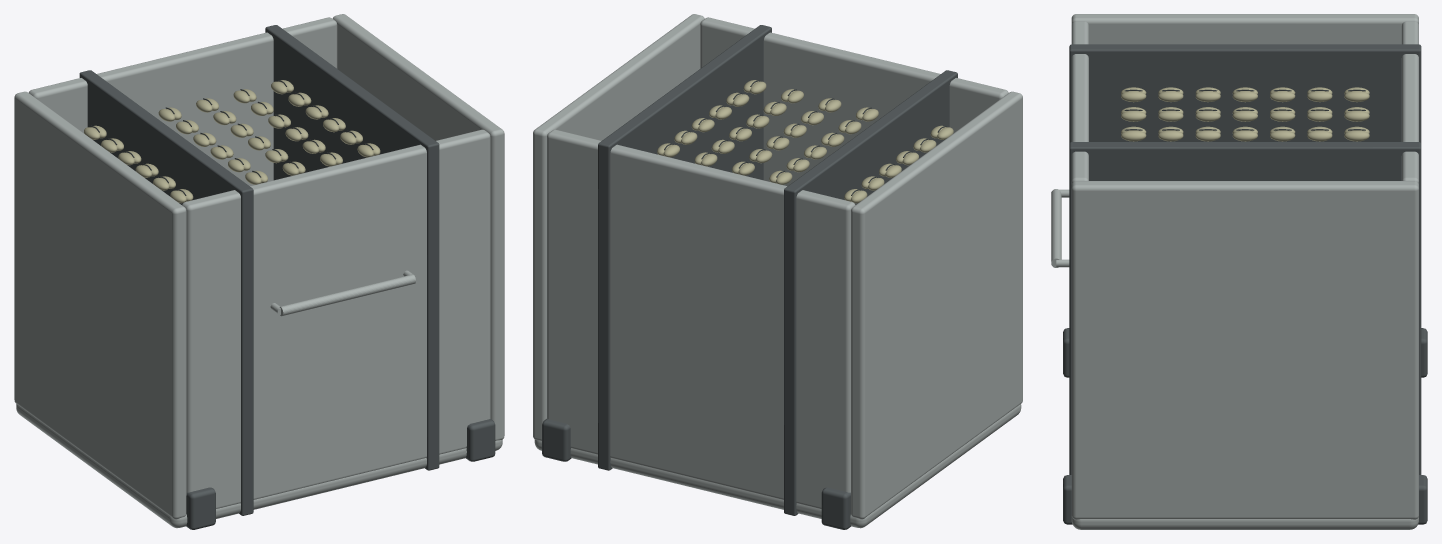
The model's file is coffee-roastery-and-cupping-room-coffee-roastery-and-c-9d63b5f4__32180.glb.
The picture shows the model from 3 angles, left to right: view 1: azimuth 30°, elevation 25°; view 2: azimuth 150°, elevation 25°; view 3: azimuth 270°, elevation 25°; orthographic projection. The views are drawn at different scales.
Parts seen in each view (by area): view 1: coffee-roastery-and-cupping-room-green-coffee-storage-bin; view 2: coffee-roastery-and-cupping-room-green-coffee-storage-bin; view 3: coffee-roastery-and-cupping-room-green-coffee-storage-bin.
Boxes of the visible parts, box(x1,y1,x2,y2) form: coffee-roastery-and-cupping-room-green-coffee-storage-bin: box(14, 14, 504, 529); coffee-roastery-and-cupping-room-green-coffee-storage-bin: box(533, 14, 1022, 529); coffee-roastery-and-cupping-room-green-coffee-storage-bin: box(1051, 14, 1427, 529).
Bounding box in the file's own units: 0.95 × 0.89 × 0.867.
